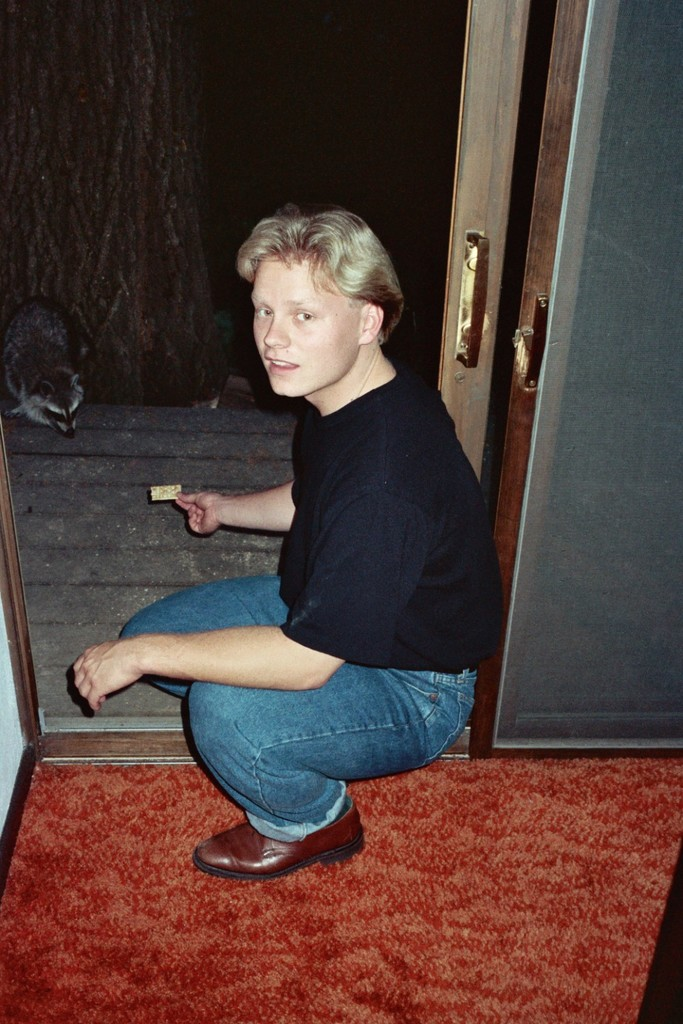door: (458, 50, 499, 441)
